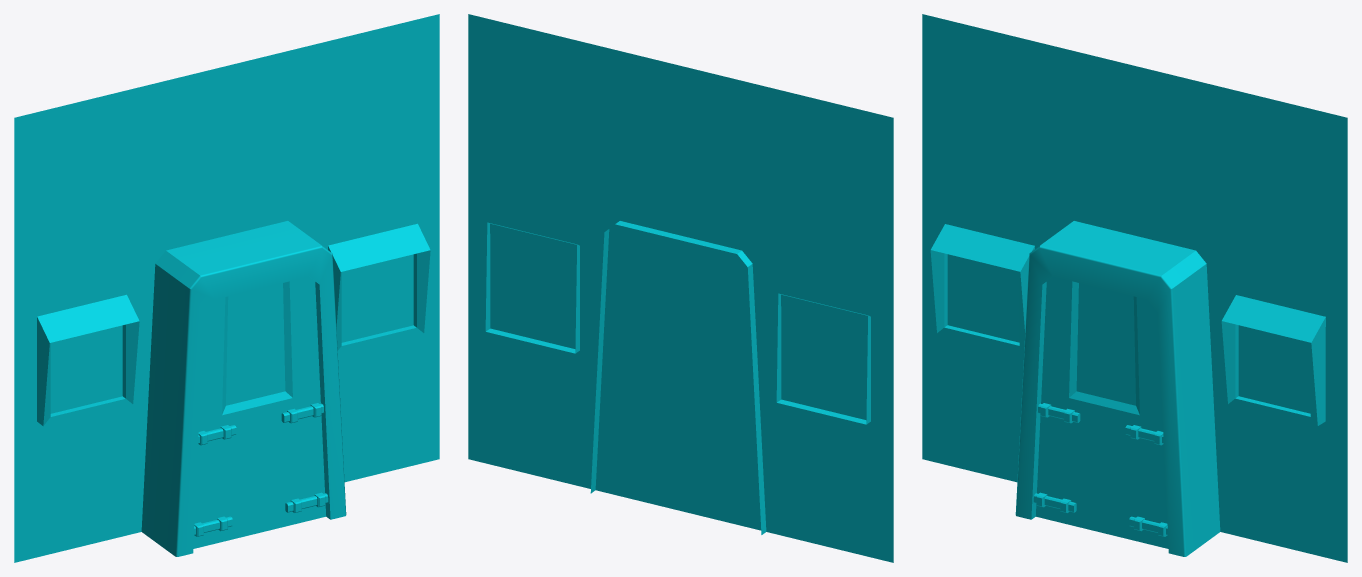
Rendered from H_Door_1.fbx.
3 renders of one model, left to right at view 1: azimuth 30°, elevation 25°; view 2: azimuth 150°, elevation 25°; view 3: azimuth 330°, elevation 25°, orthographic.
Visible parts, largest first — view 1: H_Door_1; view 2: H_Door_1; view 3: H_Door_1.
Part boxes in pixels (x1,y1,x2,y2): H_Door_1: (14, 14, 439, 562); H_Door_1: (468, 14, 893, 562); H_Door_1: (922, 14, 1347, 562).
Bounding box in the file's own units: 4 × 4 × 0.6476.
